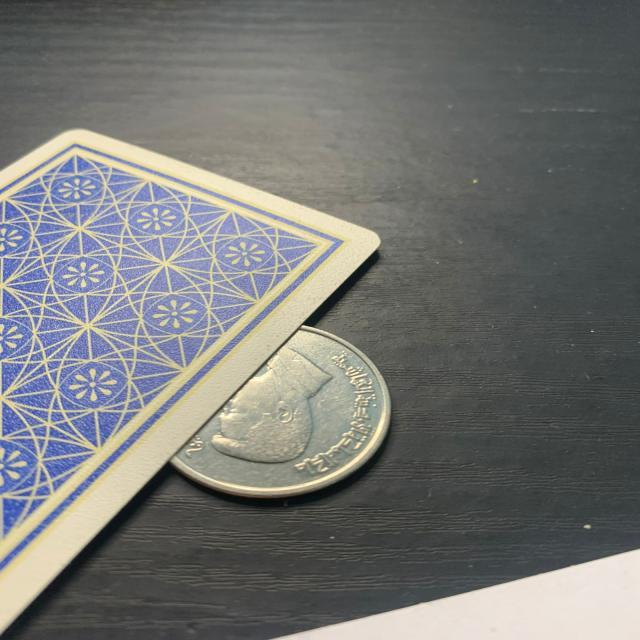10-coins: (164, 323, 393, 500)
